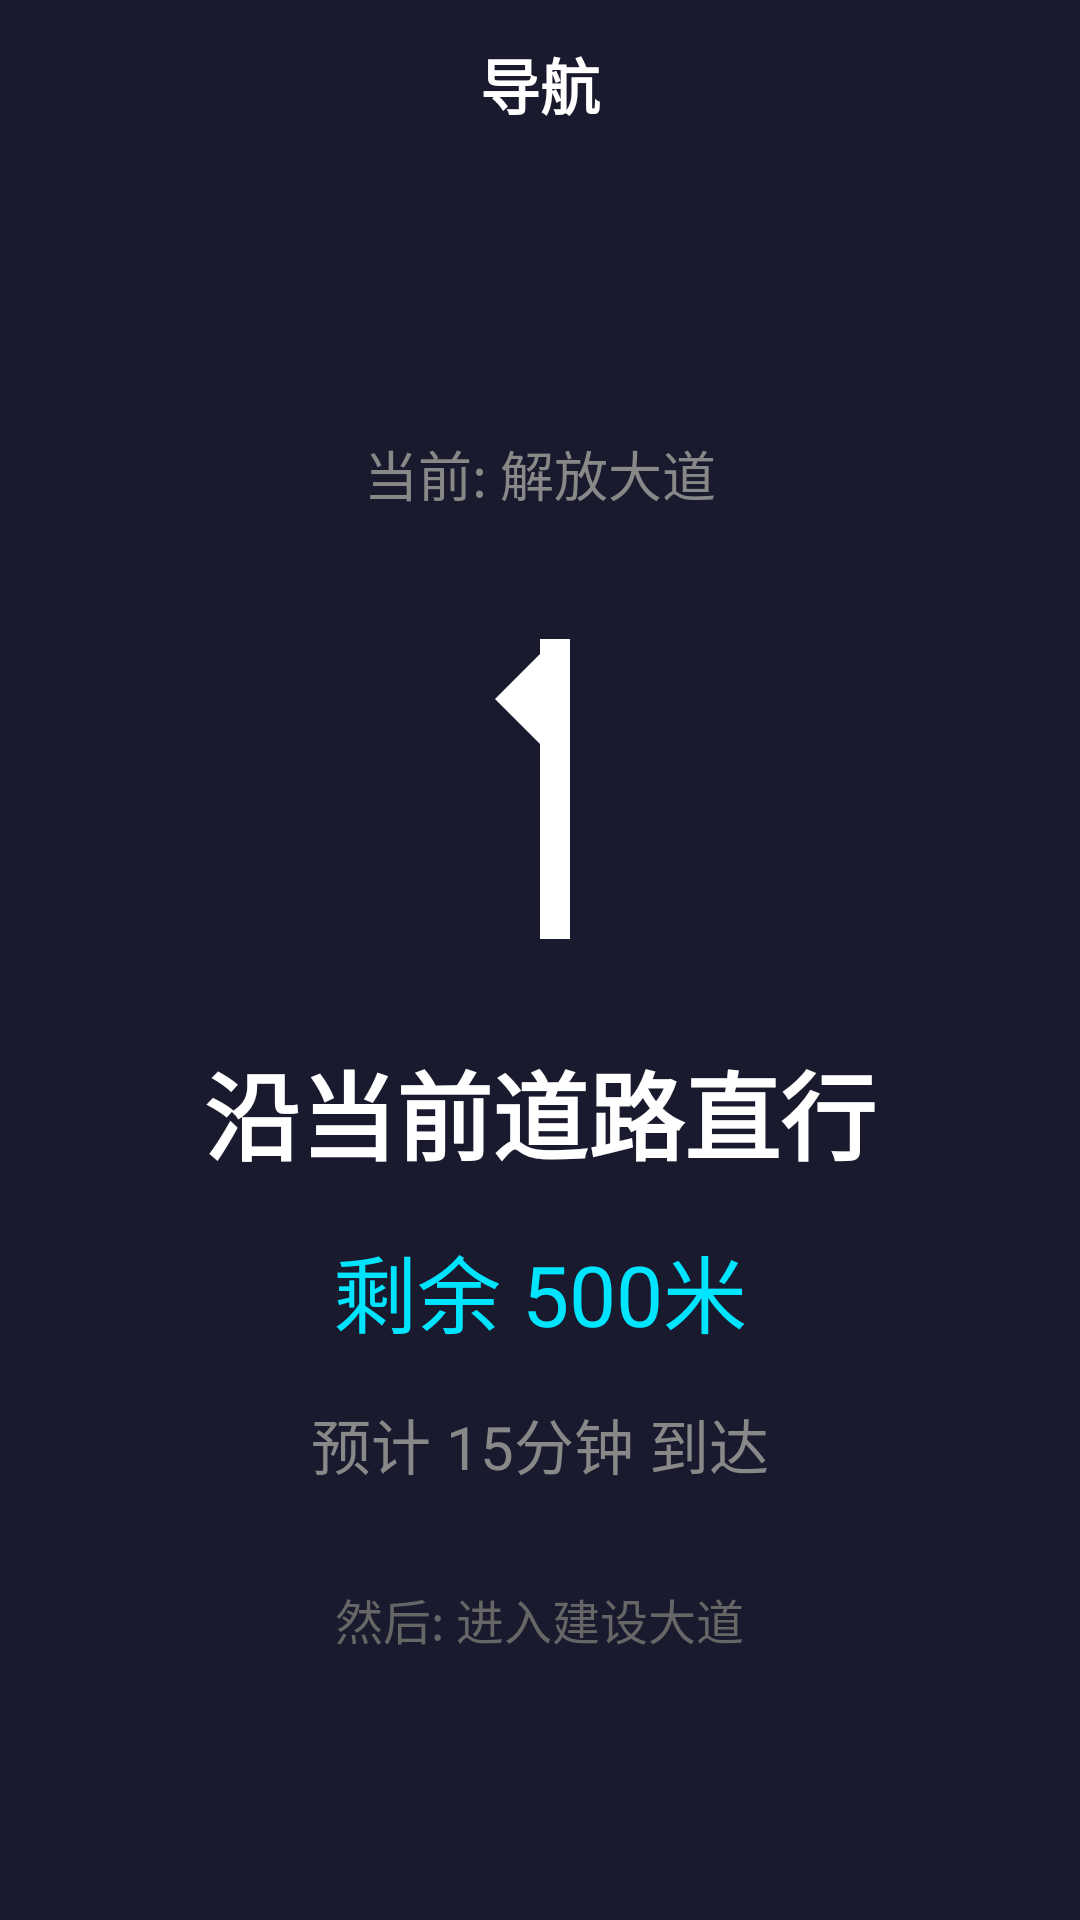

Where to tap for icons on this 1080px x 1920px app screen, as point (x, y):
turn straight: point (532, 789)
